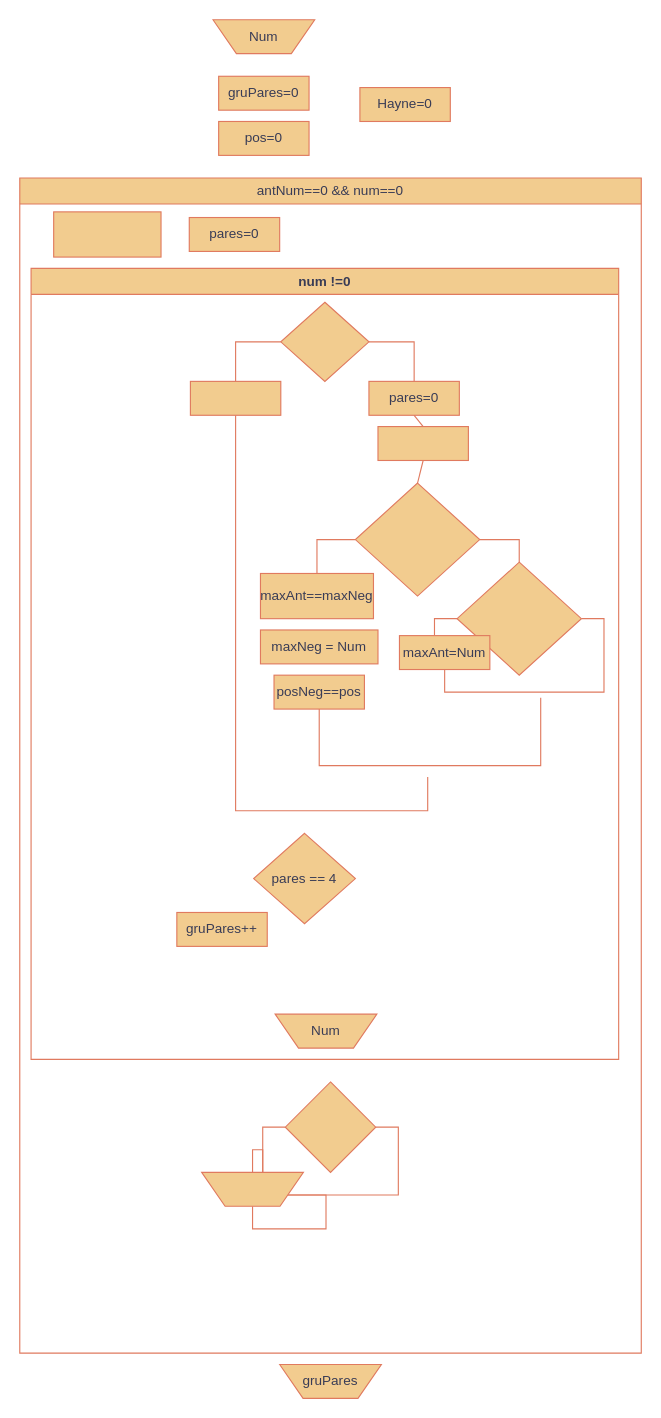
Some shapes in this 661 by 1418 pixel diagram are drawn without their labels. Here are the shapes that lost their labels. From the top down, the centre of each, then its label:
the point at 107,234: antNum=num
the point at 324,341: Num%2=0
the point at 235,397: pares++
the point at 422,442: Hayne++
the point at 417,539: maxNeg==0 && Num>maxNeg
the point at 518,618: Num>maxAnt
the point at 330,1126: Hayneg>0
the point at 252,1188: Grupo sin negativos
